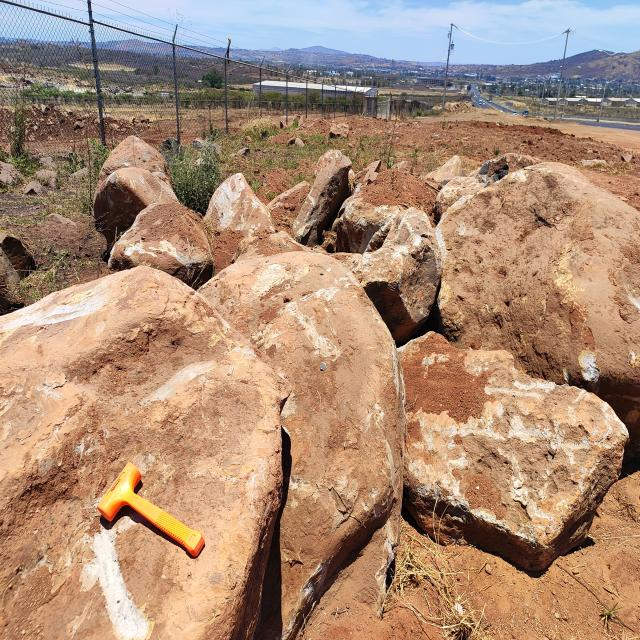Orange_hammer: (96, 461, 206, 559)
